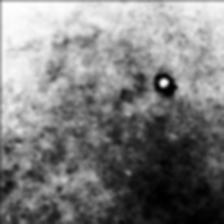Unclassified: (146, 64, 180, 92)
